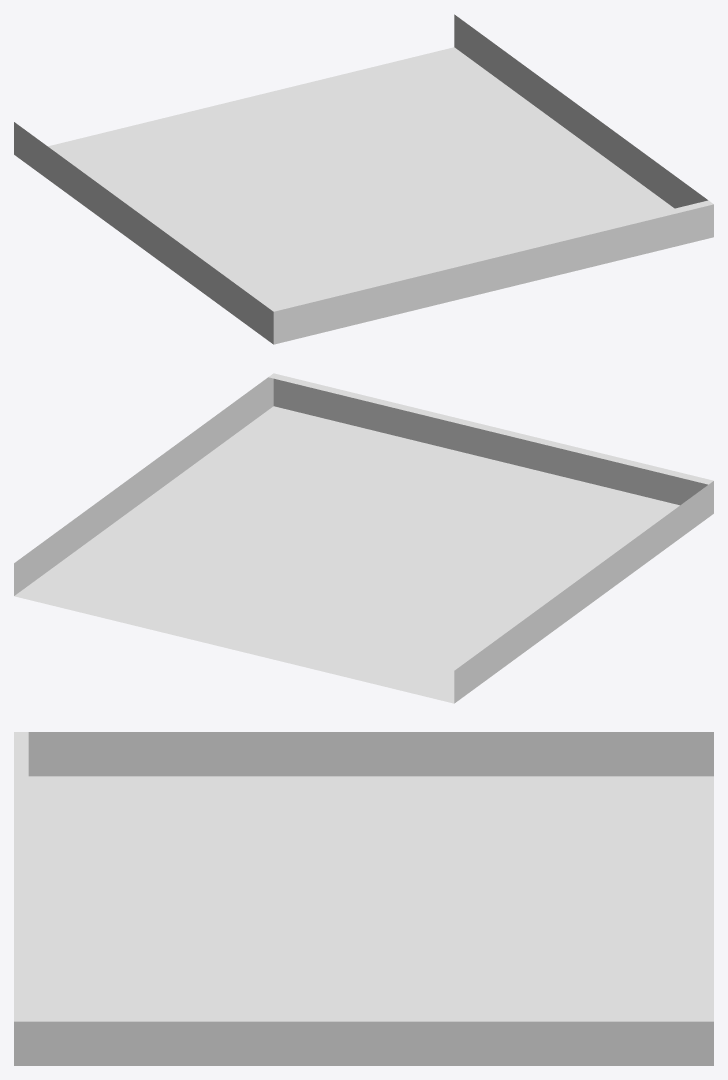
Rendered from M_WallTrim700x700White100-1.FBX.
3 renders of one model, top to bottom at view 1: azimuth 30°, elevation 25°; view 2: azimuth 150°, elevation 25°; view 3: azimuth 270°, elevation 25°, orthographic. The views are drawn at different scales.
Visible parts, largest first — view 1: M_WallTrim700x700White100-1; view 2: M_WallTrim700x700White100-1; view 3: M_WallTrim700x700White100-1.
Part boxes in pixels (x1,y1,x2,y2): M_WallTrim700x700White100-1: [14, 14, 713, 344]; M_WallTrim700x700White100-1: [14, 373, 713, 703]; M_WallTrim700x700White100-1: [14, 732, 713, 1065].
Size of the model in its own units: 7 by 0.5 by 7.15.
